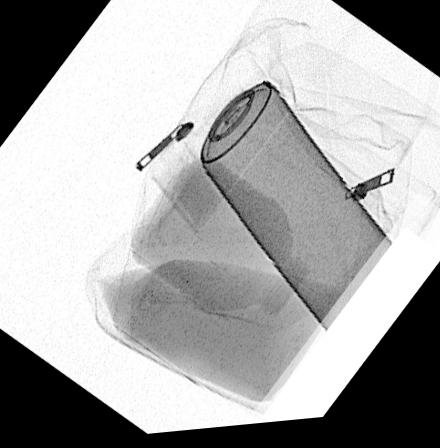Sprayer: (179, 54, 406, 349)
